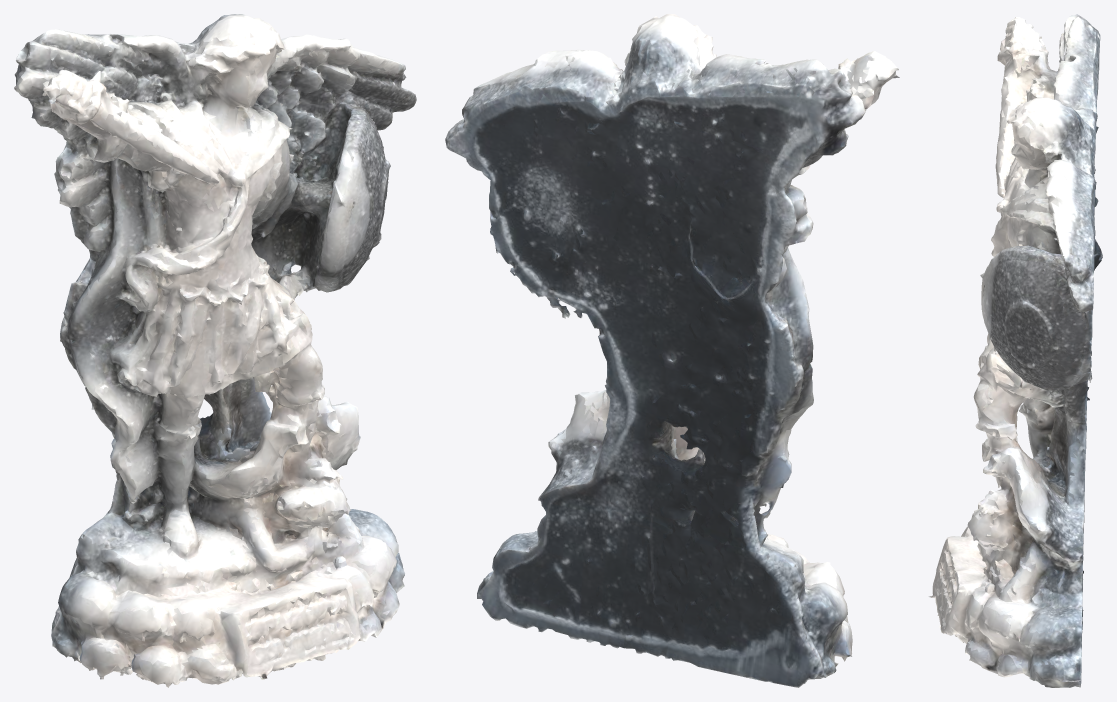
The model's file is scan-micae.glb.
The picture shows the model from 3 angles, left to right: view 1: azimuth 30°, elevation 25°; view 2: azimuth 150°, elevation 25°; view 3: azimuth 270°, elevation 25°; orthographic projection. The views are drawn at different scales.
Parts seen in each view (by area): view 1: geometry_0; view 2: geometry_0; view 3: geometry_0.
Boxes of the visible parts, x1=… form: geometry_0: x1=14, y1=14, x2=416, y2=687; geometry_0: x1=445, y1=14, x2=899, y2=687; geometry_0: x1=929, y1=14, x2=1102, y2=687.
Bounding box in the file's own units: 1.36 × 2 × 0.5885.
Materials: 1 (1 with a texture image).
